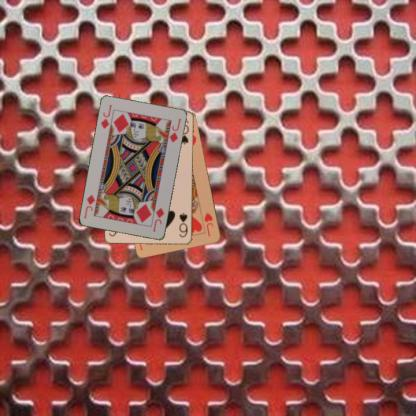6s: (177, 210, 189, 239)
Jd: (150, 205, 166, 233), (98, 102, 113, 130)
Jh: (202, 210, 215, 237)
